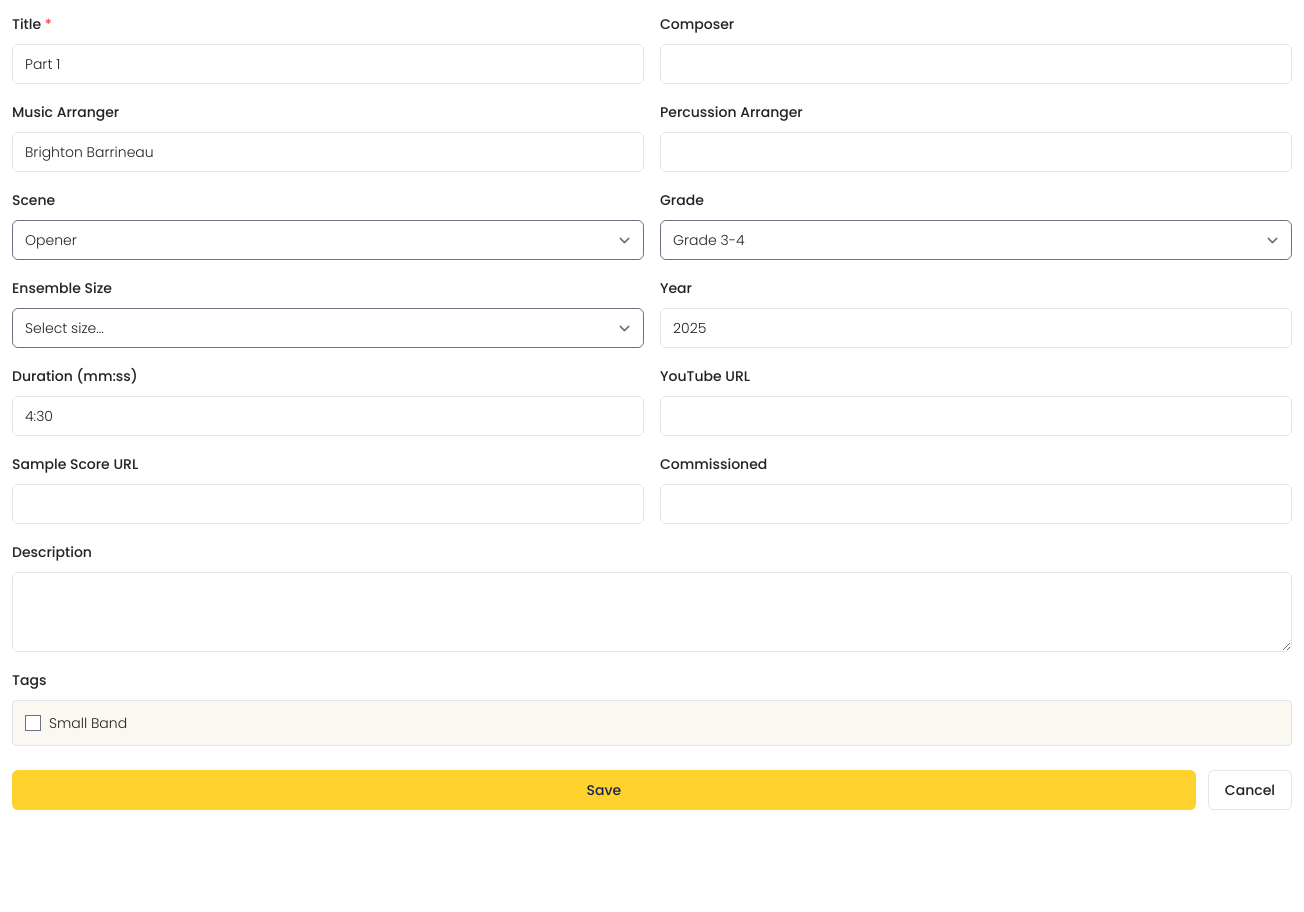
Test: ArrangementForm › maps a durationSeconds issue onto the duration field
The width and height of the screenshot is (1304, 912).
What coordinates should you click on to do the following:
click the button "Save"
I would click on:
 (604, 790)
Its box is [12,770,1196,810].
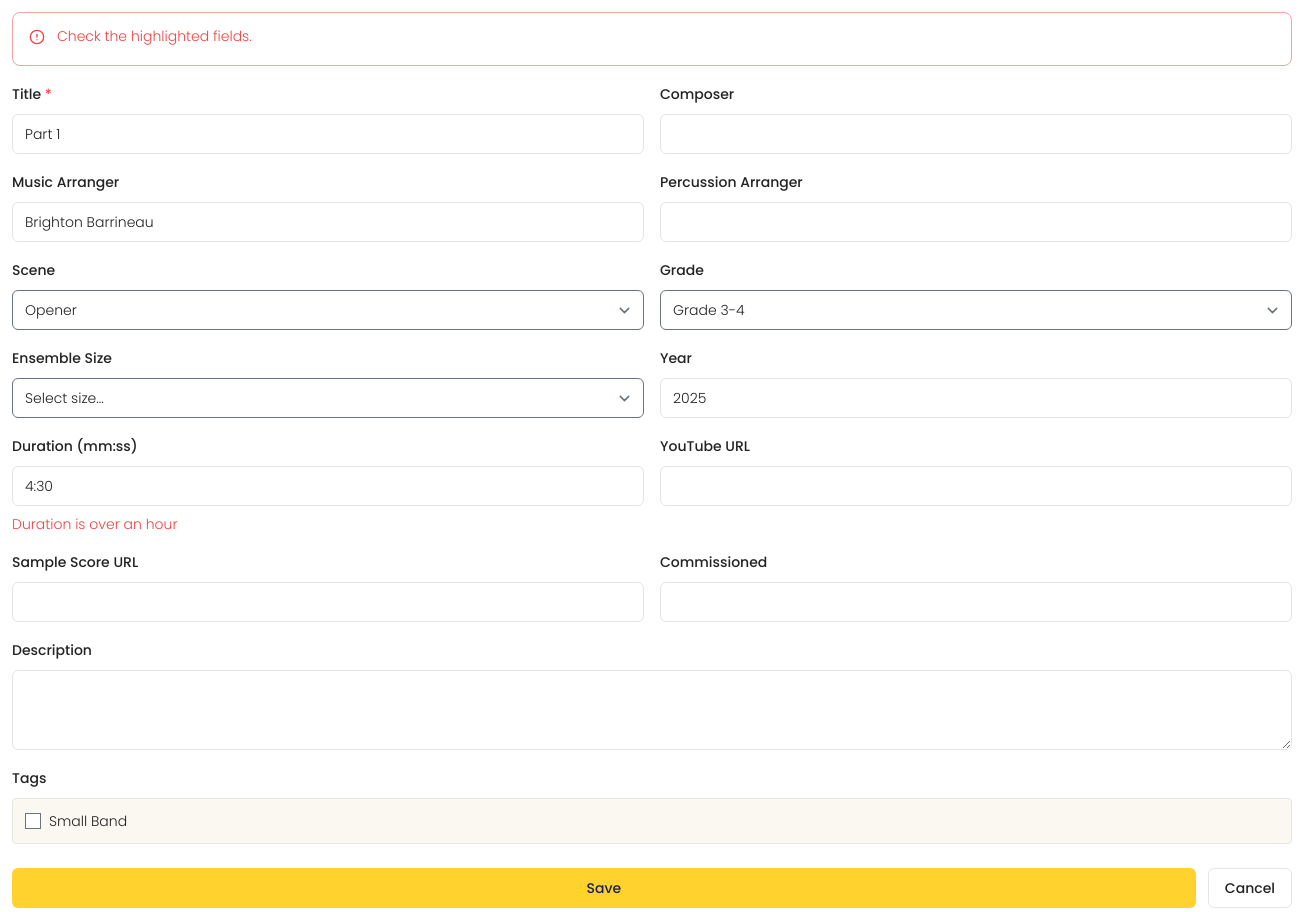
Now the text "Duration is over an hour" is shown, box [12,514,178,534]
